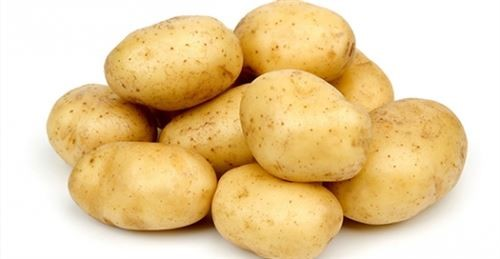Potato: (91, 12, 248, 109), (239, 72, 370, 186), (64, 141, 220, 231)
